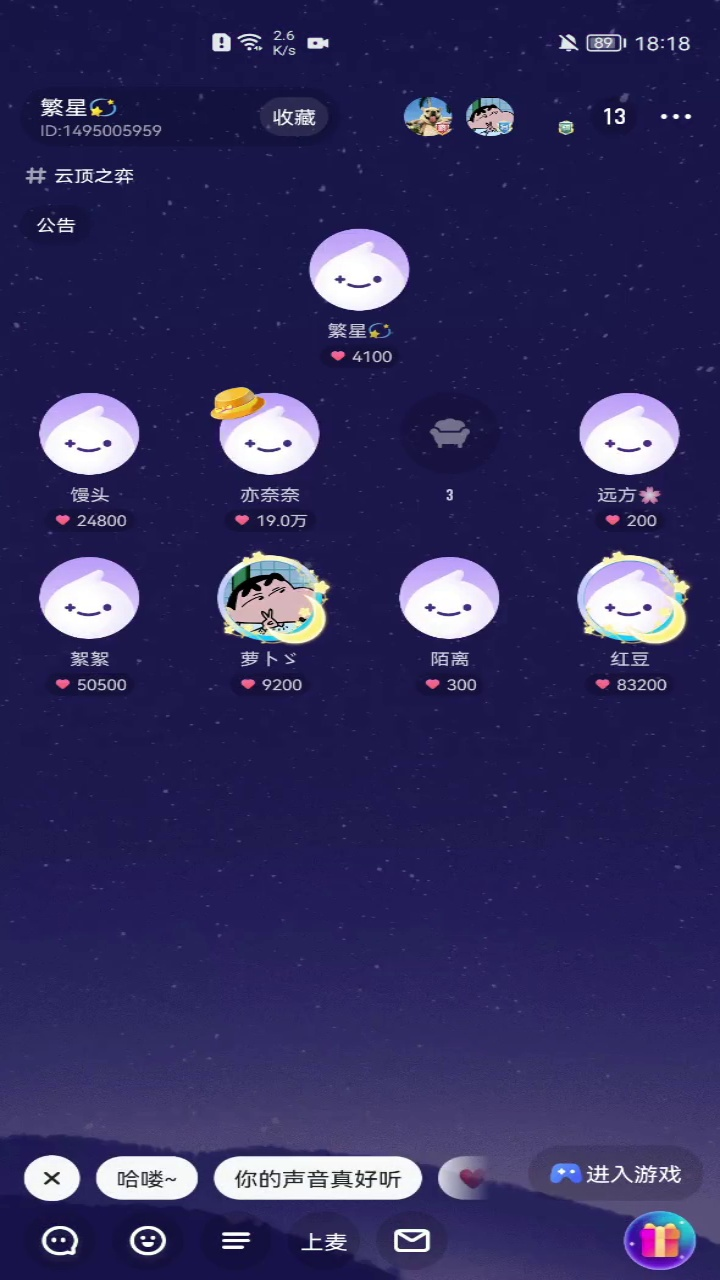avatar: (196, 378, 335, 484), (569, 548, 696, 650), (303, 218, 416, 317), (391, 550, 507, 645), (32, 389, 147, 481), (36, 554, 145, 644), (576, 392, 681, 477)
